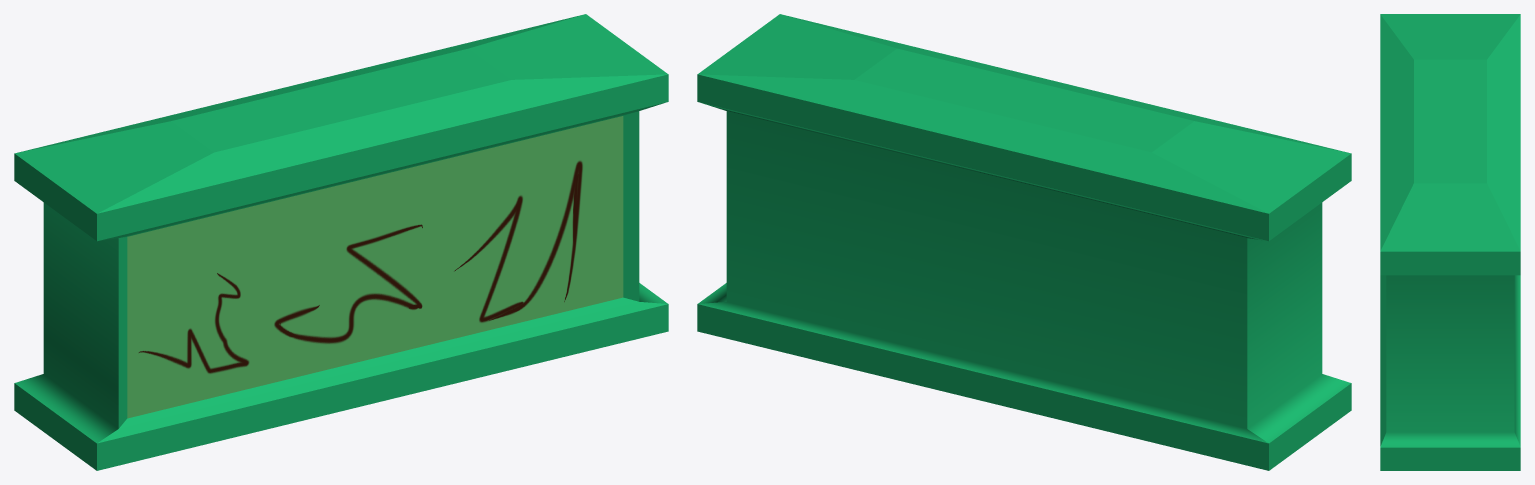
The model's file is Good Seal.fbx.
3 views of the same model, side by side, from view 1: azimuth 30°, elevation 25°; view 2: azimuth 150°, elevation 25°; view 3: azimuth 270°, elevation 25° (orthographic). The views are drawn at different scales.
Visible parts, largest first — view 1: pCube1; view 2: pCube1; view 3: pCube1.
Boxes of the visible parts, box(x1,y1,x2,y2) form: pCube1: box(14, 14, 668, 470); pCube1: box(697, 14, 1351, 470); pCube1: box(1380, 14, 1520, 470).
Size of the model in its own units: 21.95 by 10.42 by 5.49.
Materials: 2 (2 with a texture image).
